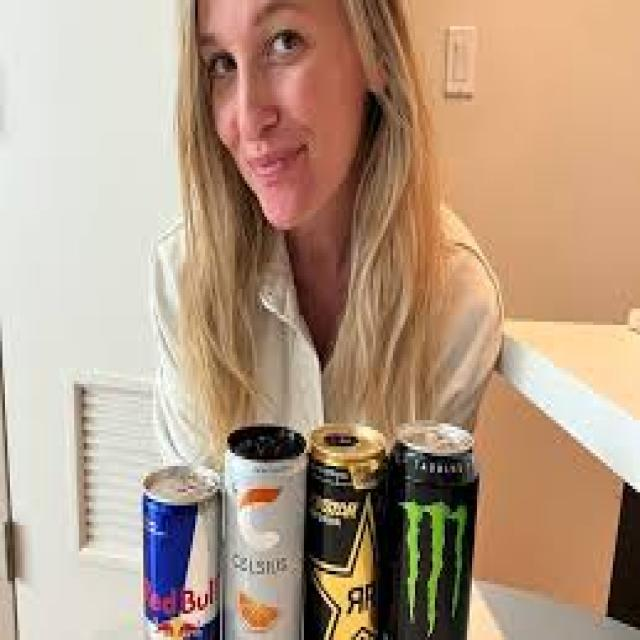Cans: (385, 413, 481, 640), (217, 423, 309, 640), (301, 417, 388, 640), (138, 456, 222, 640)
